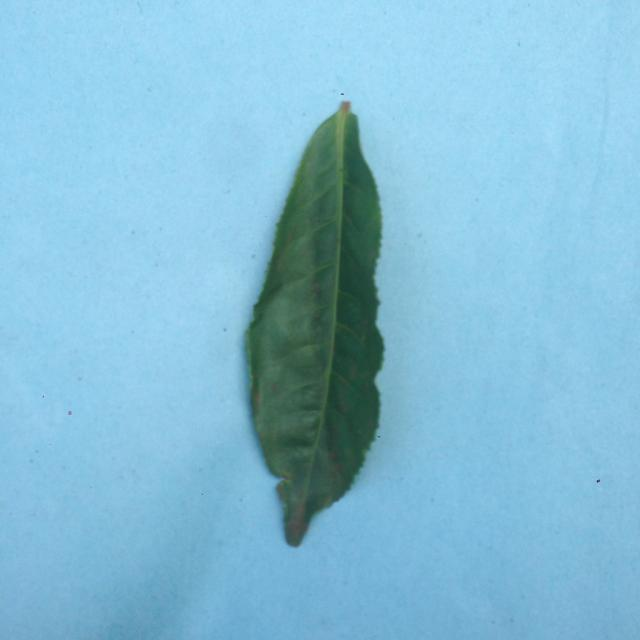Healthy: (207, 74, 424, 594)
